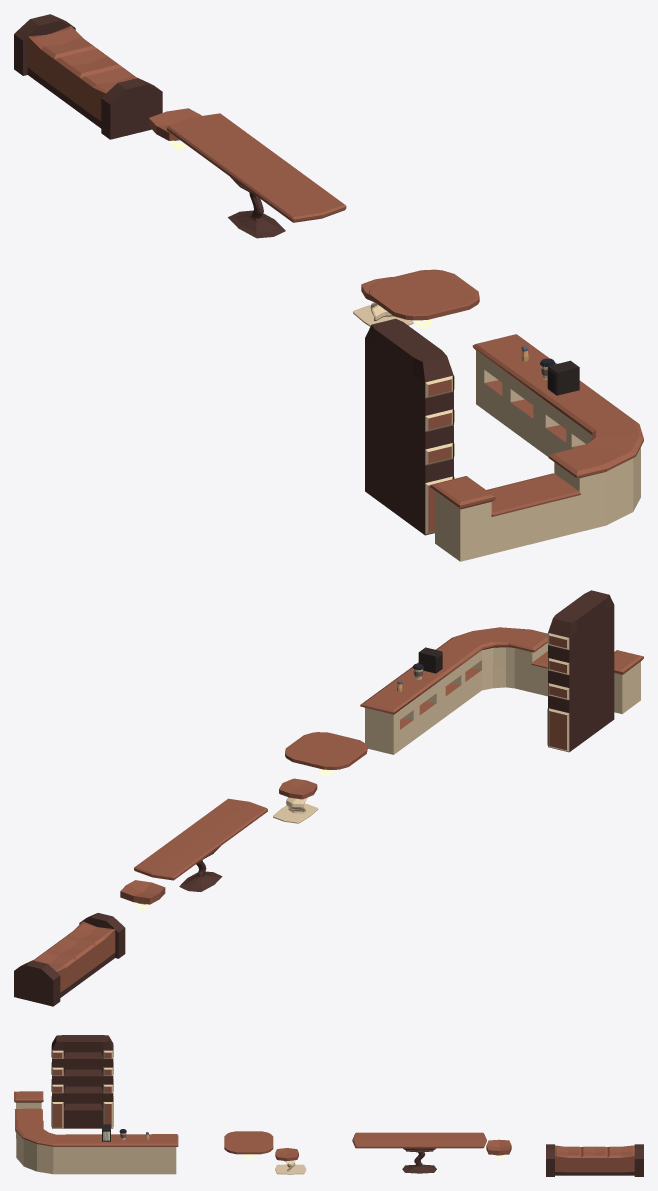
Rendered from coffeeshop.glb.
The picture shows the model from 3 angles, top to bottom: view 1: azimuth 30°, elevation 25°; view 2: azimuth 150°, elevation 25°; view 3: azimuth 270°, elevation 25°; orthographic projection. The views are drawn at different scales.
Visible parts, largest first — view 1: Cube, Cube.005, Cube.008, Cube.006, Cube.003, Cube.002, Cube.007, Cube.004; view 2: Cube, Cube.005, Cube.008, Cube.006, Cube.003, Cube.004, Cube.007; view 3: Cube, Cube.005, Cube.008, Cube.006, Cube.003, Cube.004, Cube.007.
Boxes of the visible parts, x1,y1,x2,y2 form: Cube: (430, 334, 643, 561); Cube.005: (365, 318, 454, 535); Cube.008: (14, 14, 162, 139); Cube.006: (167, 113, 346, 238); Cube.003: (369, 269, 479, 320); Cube.002: (547, 360, 579, 395); Cube.007: (149, 108, 201, 148); Cube.004: (353, 277, 413, 326); Cube: (360, 627, 643, 754); Cube.005: (547, 590, 614, 752); Cube.008: (14, 913, 125, 1006); Cube.006: (134, 798, 267, 891); Cube.003: (285, 732, 367, 769); Cube.004: (273, 778, 318, 823); Cube.007: (120, 880, 165, 910); Cube: (14, 1091, 178, 1174); Cube.005: (51, 1035, 113, 1128); Cube.008: (546, 1144, 643, 1176); Cube.006: (352, 1132, 486, 1173); Cube.003: (224, 1131, 273, 1154); Cube.004: (275, 1148, 306, 1174); Cube.007: (486, 1139, 511, 1159).
Bounding box in the file's own units: 21.02 × 14.46 × 94.84.
